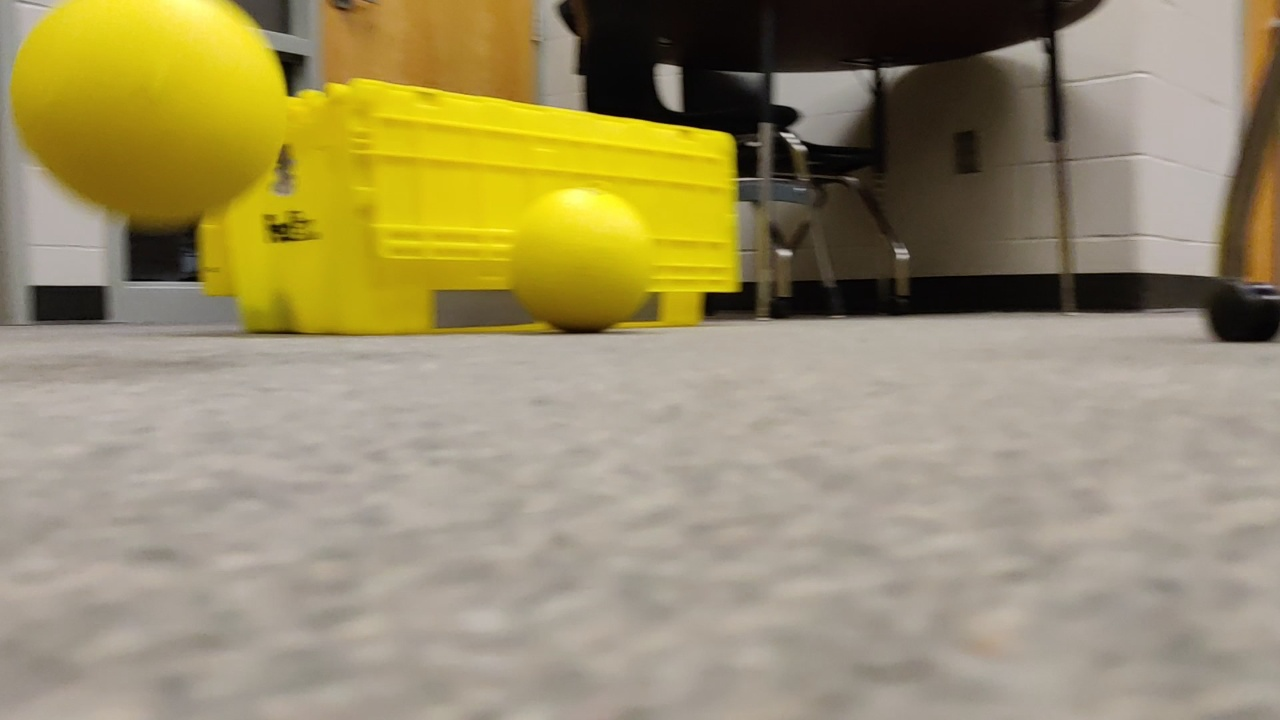Ball: (14, 1, 295, 223), (515, 185, 647, 340)
